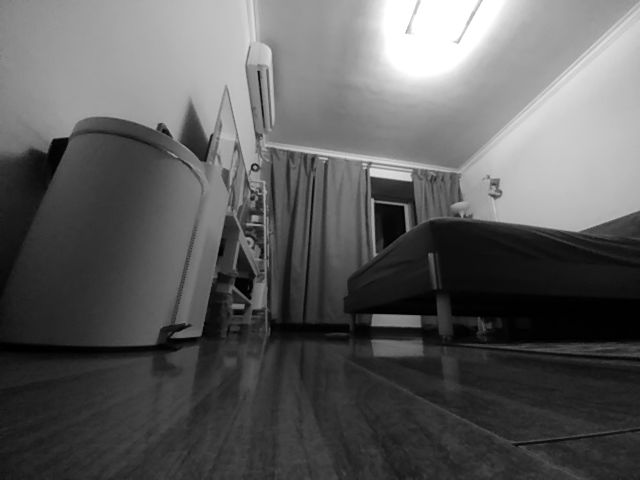carpet: (449, 337, 640, 361)
curtain: (258, 147, 372, 326)
